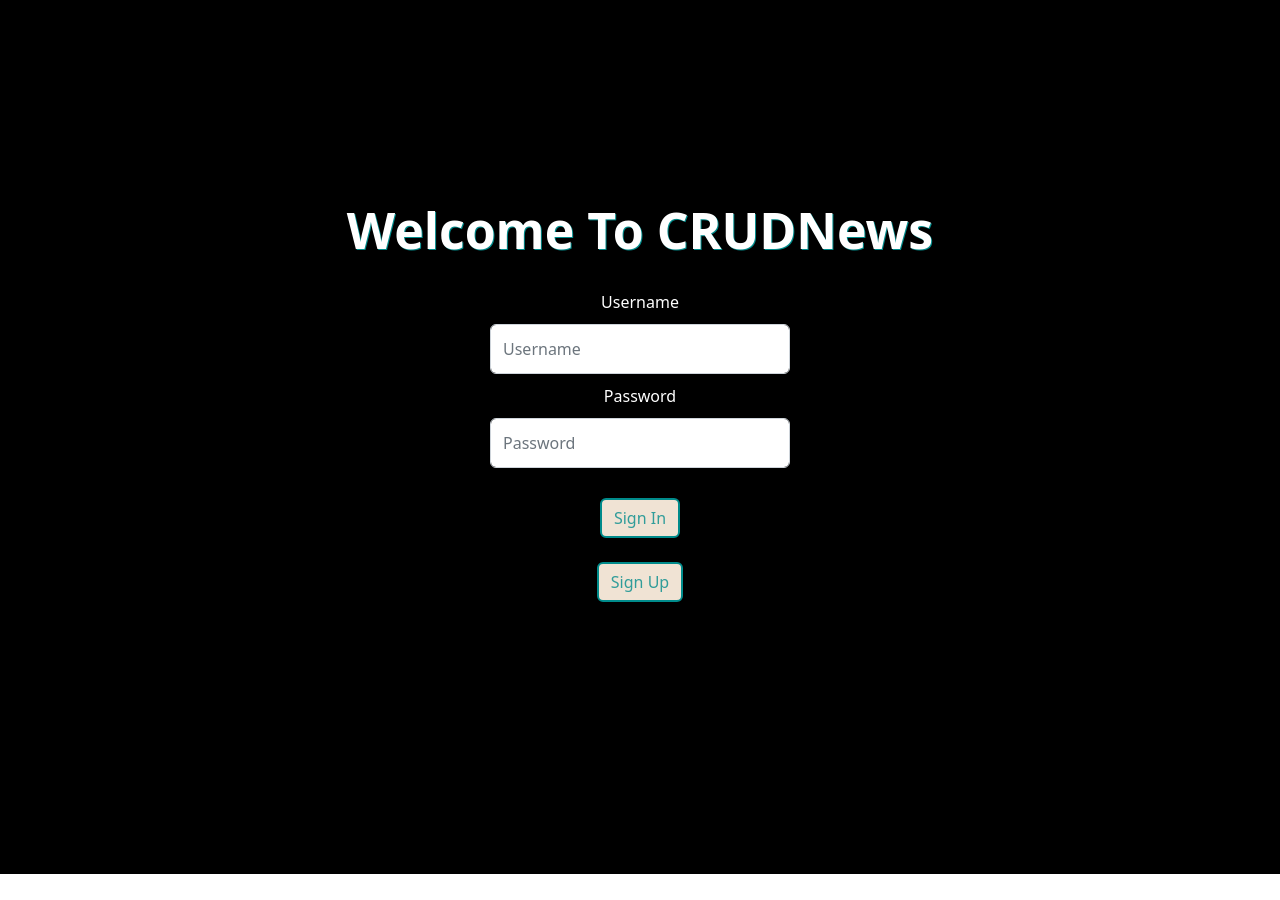
it: SignInPage › shows an error when server returns status 400
The image size is (1280, 900).
Type "user1" into the field labelled "Username". click: (640,349)
box: [490,324,790,374]
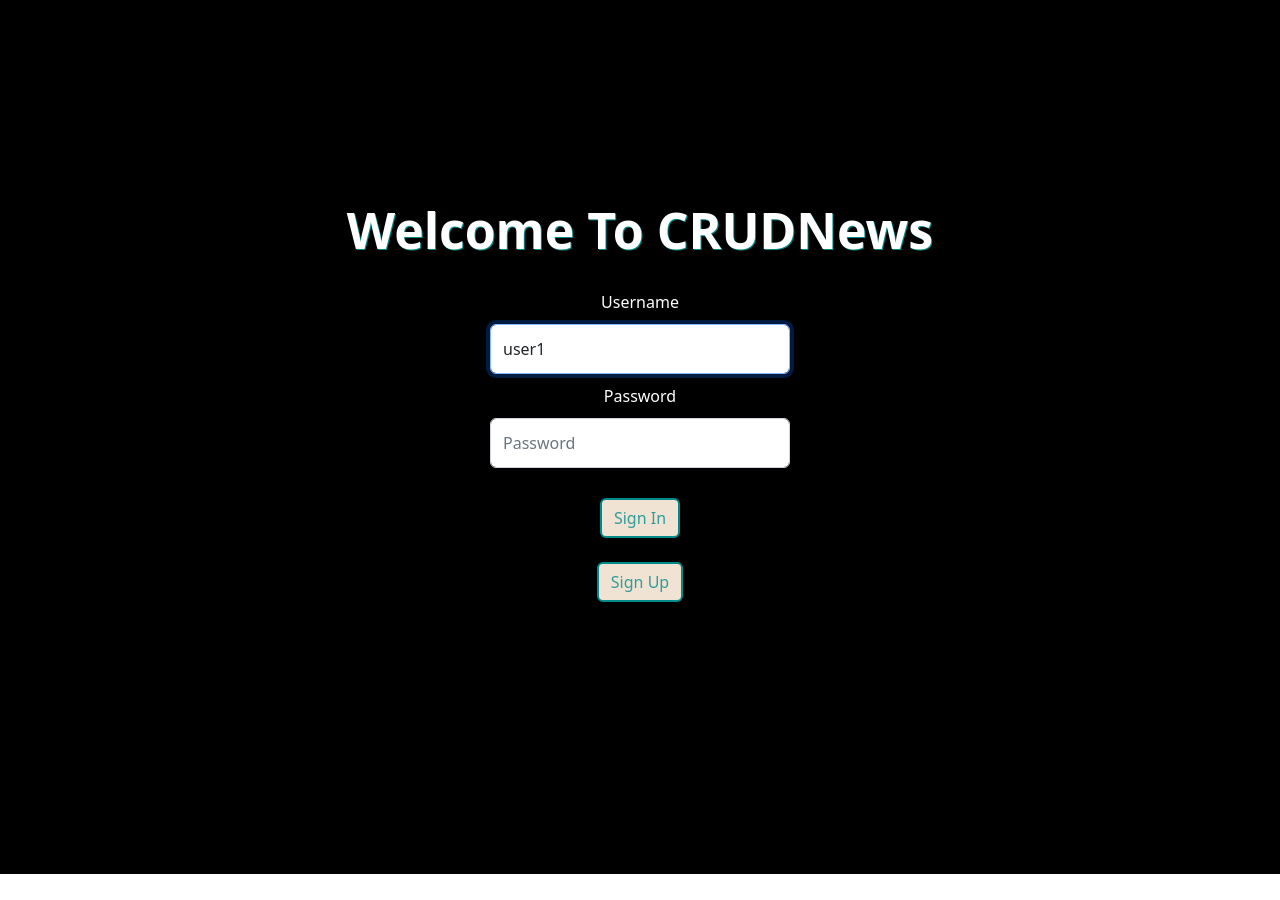
Type "Password1!" into the password field labelled "Password". click: (640,443)
box: [490,418,790,468]
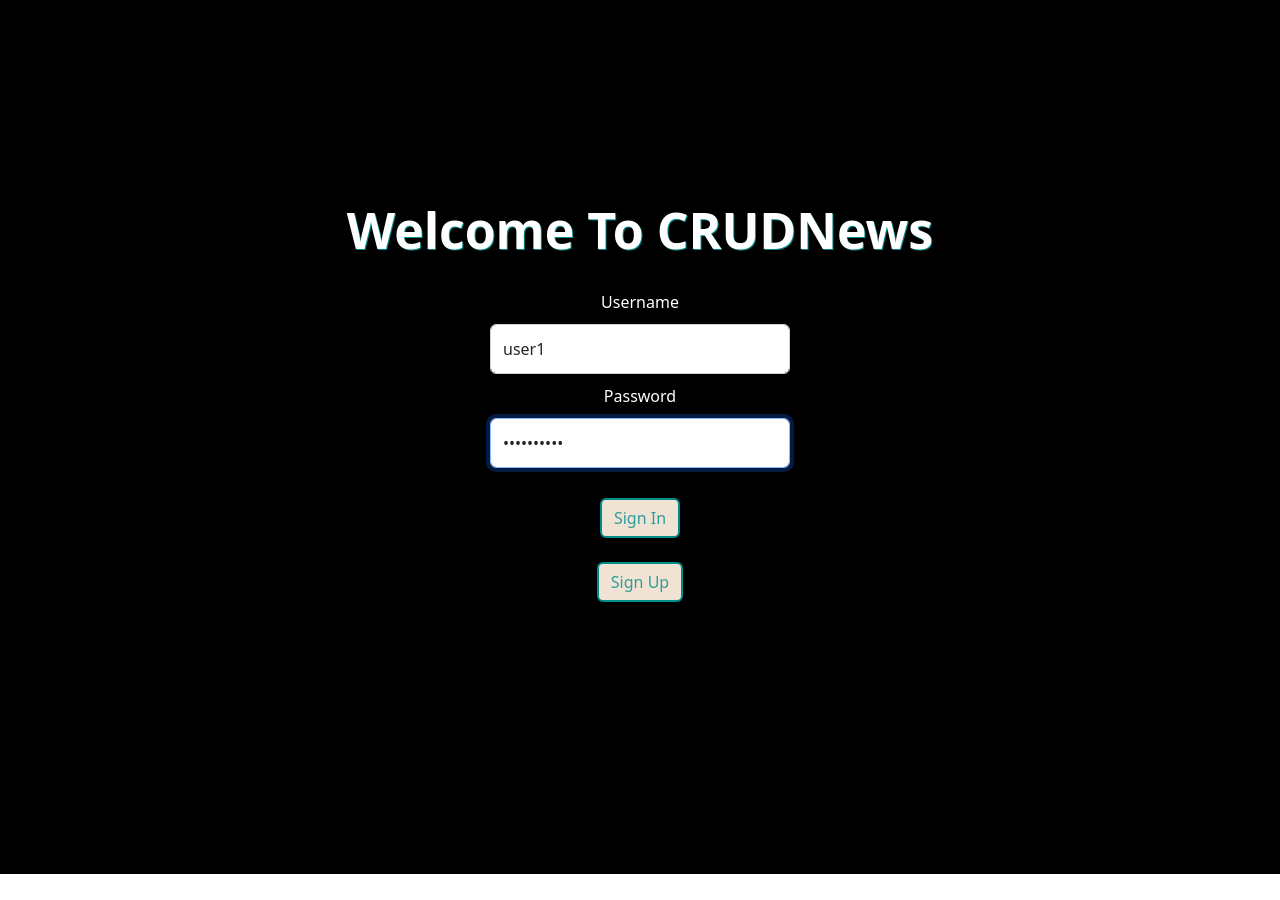
Click the button "Sign In". click: (640,518)
box: [600,498,680,538]
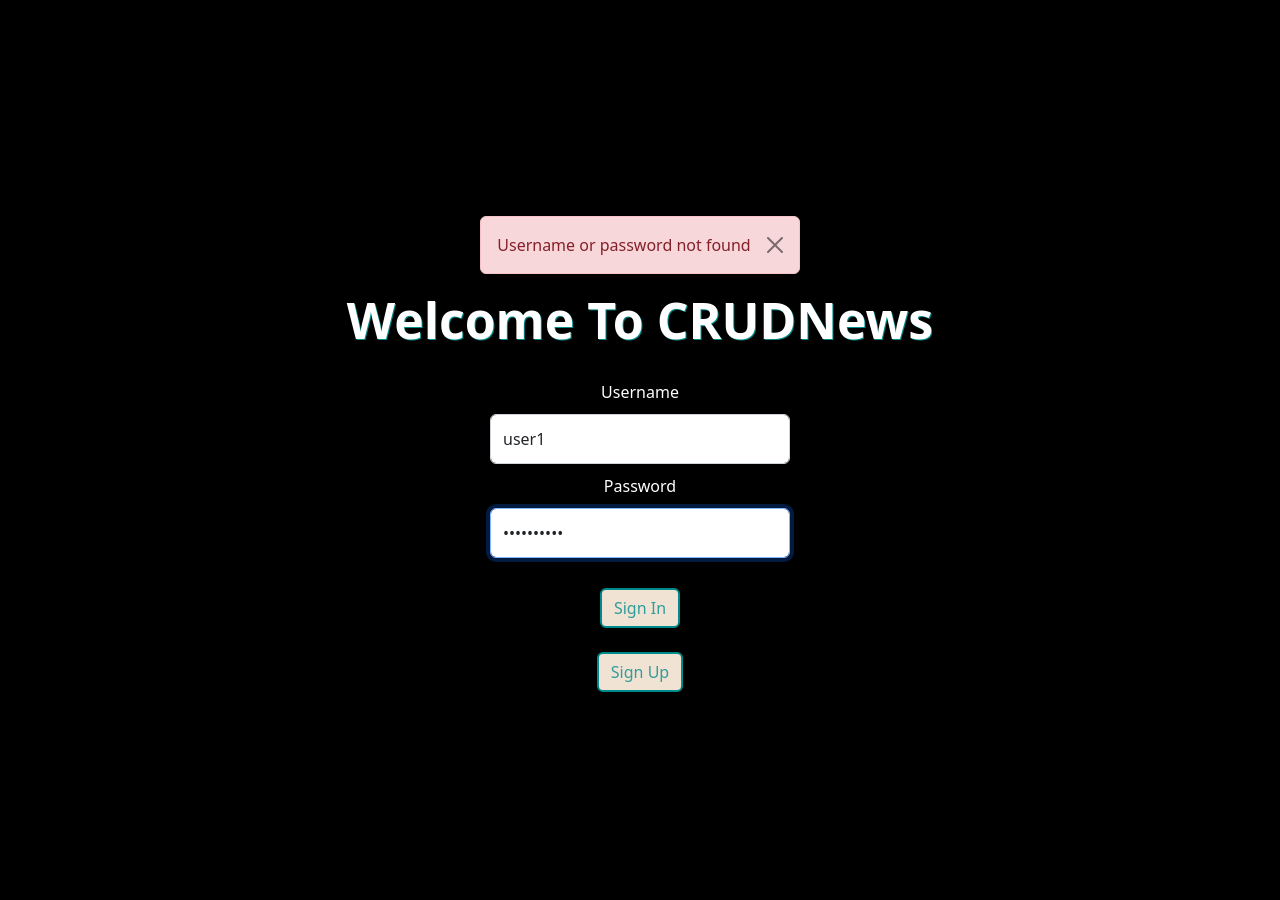
Expected: the text "Username or password not found" is shown, [480,216,800,274]
